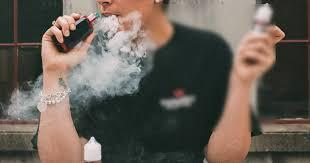smoker: (29, 0, 188, 115)
